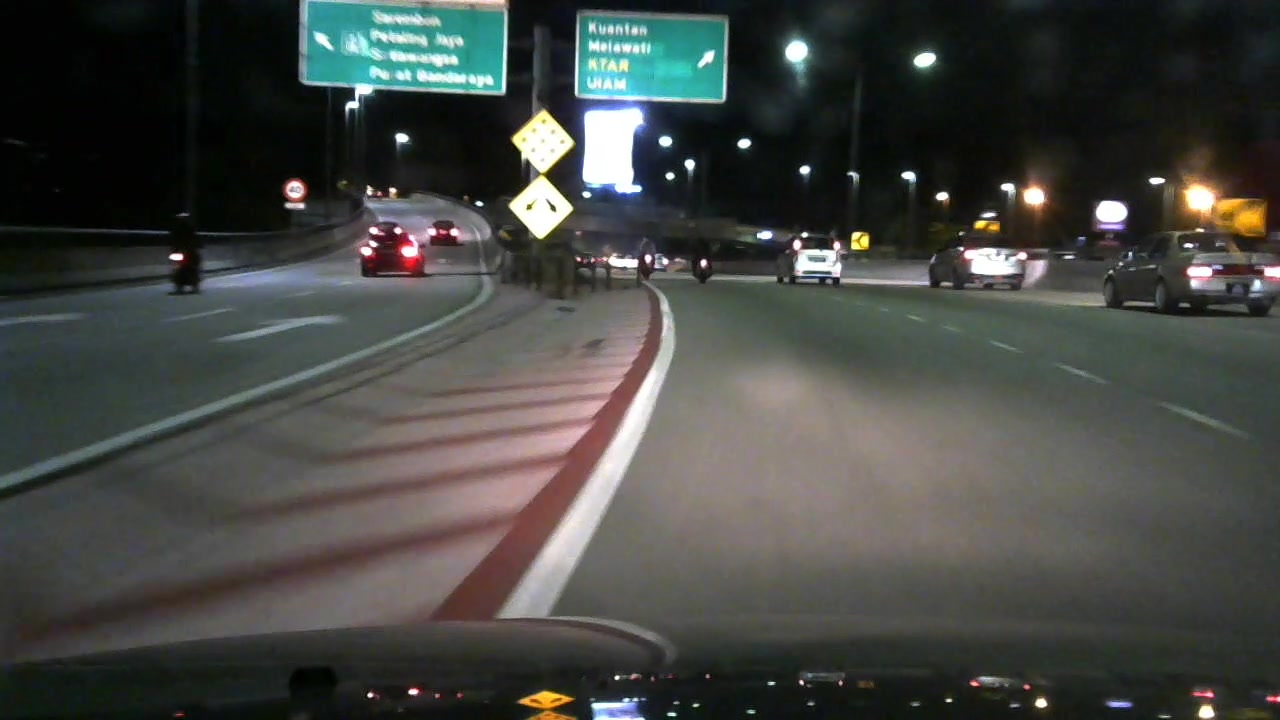Car: (1096, 207, 1280, 313), (916, 218, 1037, 290), (770, 229, 849, 284), (349, 231, 424, 280), (424, 213, 464, 243), (365, 184, 387, 202)
